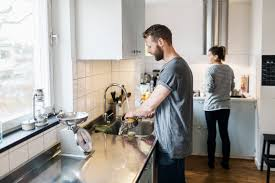Good: (127, 23, 235, 183)
